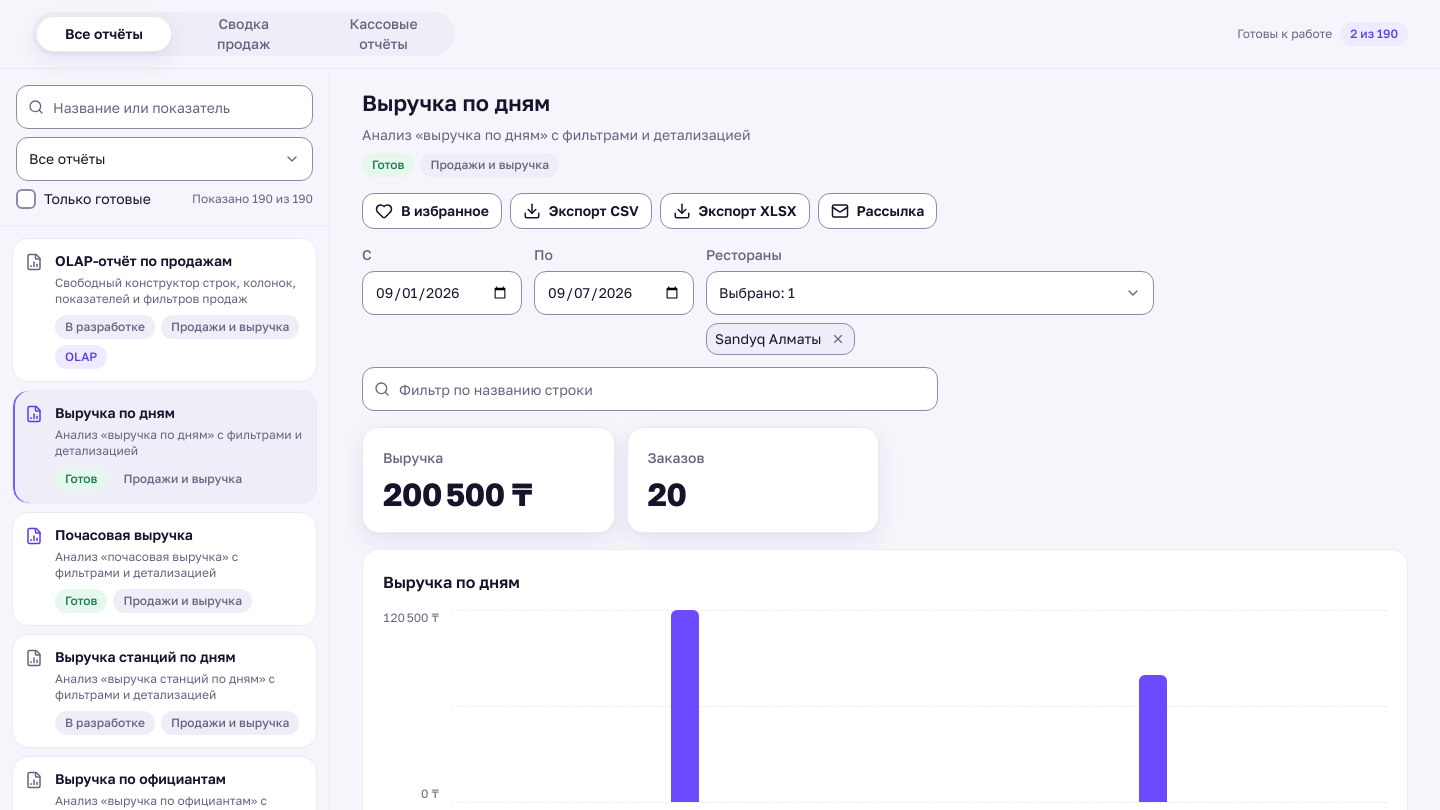
Scenario: favorites and saved views (W1-RPT-05) › «В избранное» saves the report with the current filters and shows the toast
Click the button "В избранное". click: (432, 211)
box: x1=362 y1=193 x2=502 y2=229
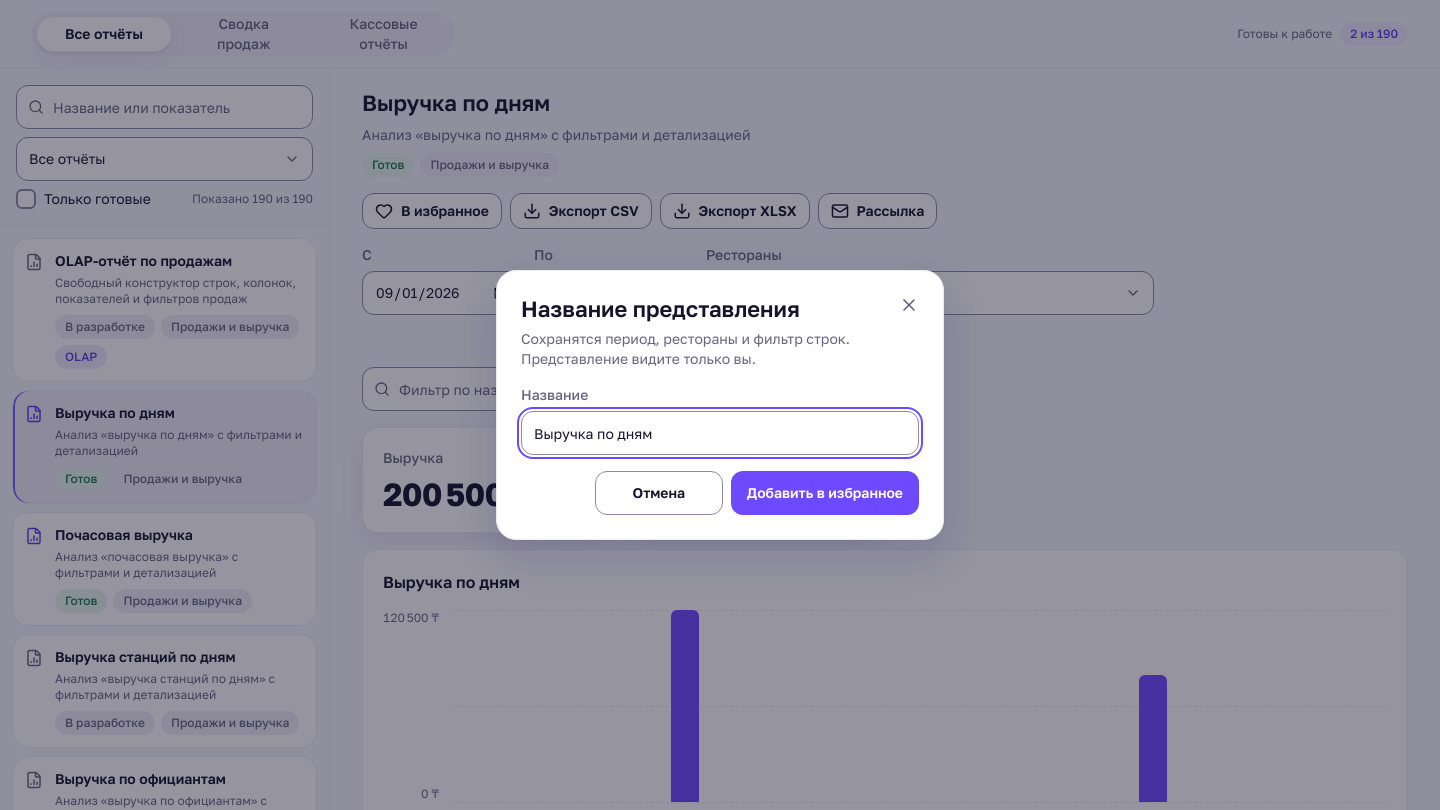
Result: the field labelled "Название" holds "Выручка по дням"
Replace the text in the field labelled "Название" with "Алматы, неделя". click: (720, 433)
box: x1=521 y1=411 x2=919 y2=455
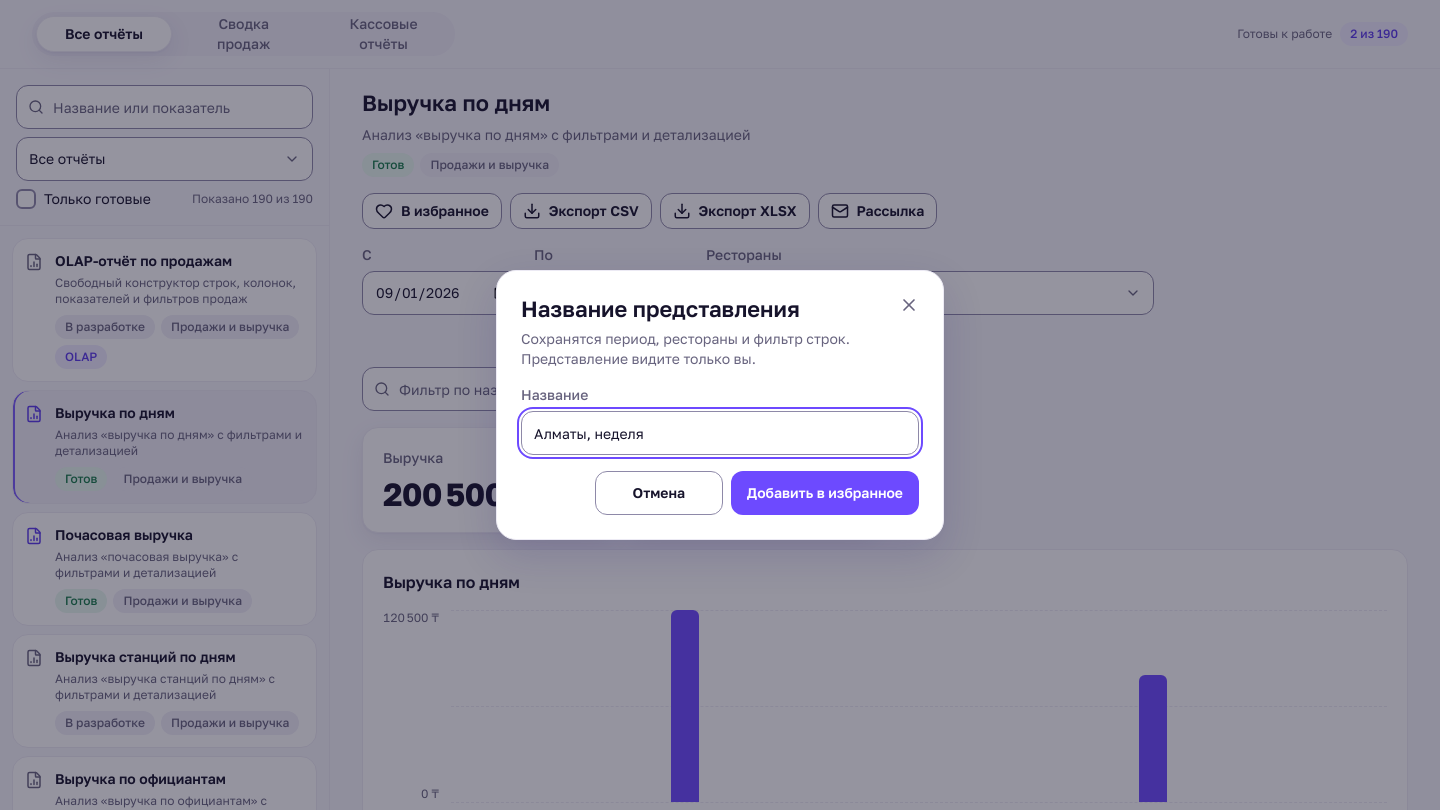
Click the button "Добавить в избранное". click: (825, 493)
box: x1=731 y1=471 x2=919 y2=515
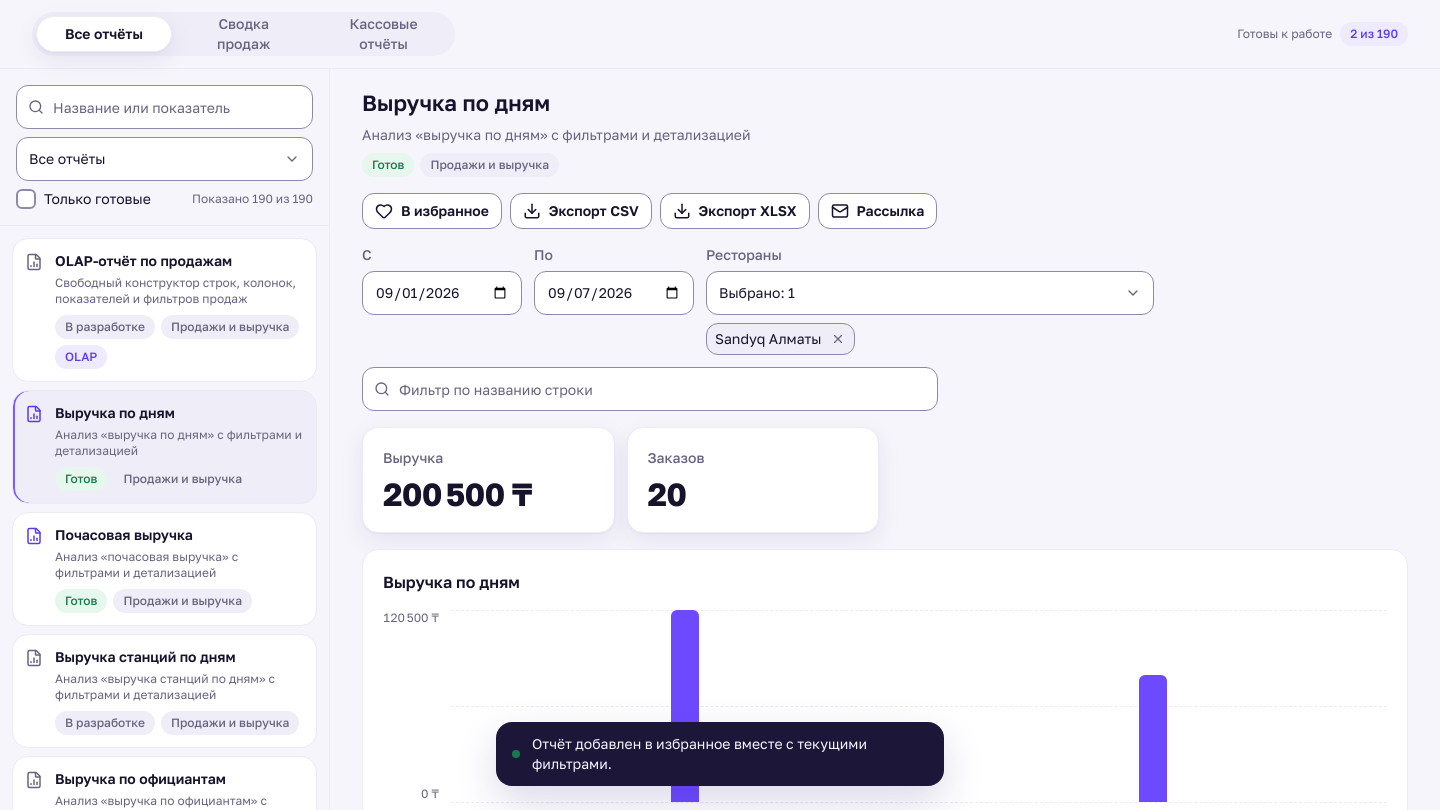
Result: the text "Отчёт добавлен в избранное вместе с текущими фильтрами." is shown at x1=496 y1=722 x2=944 y2=786
